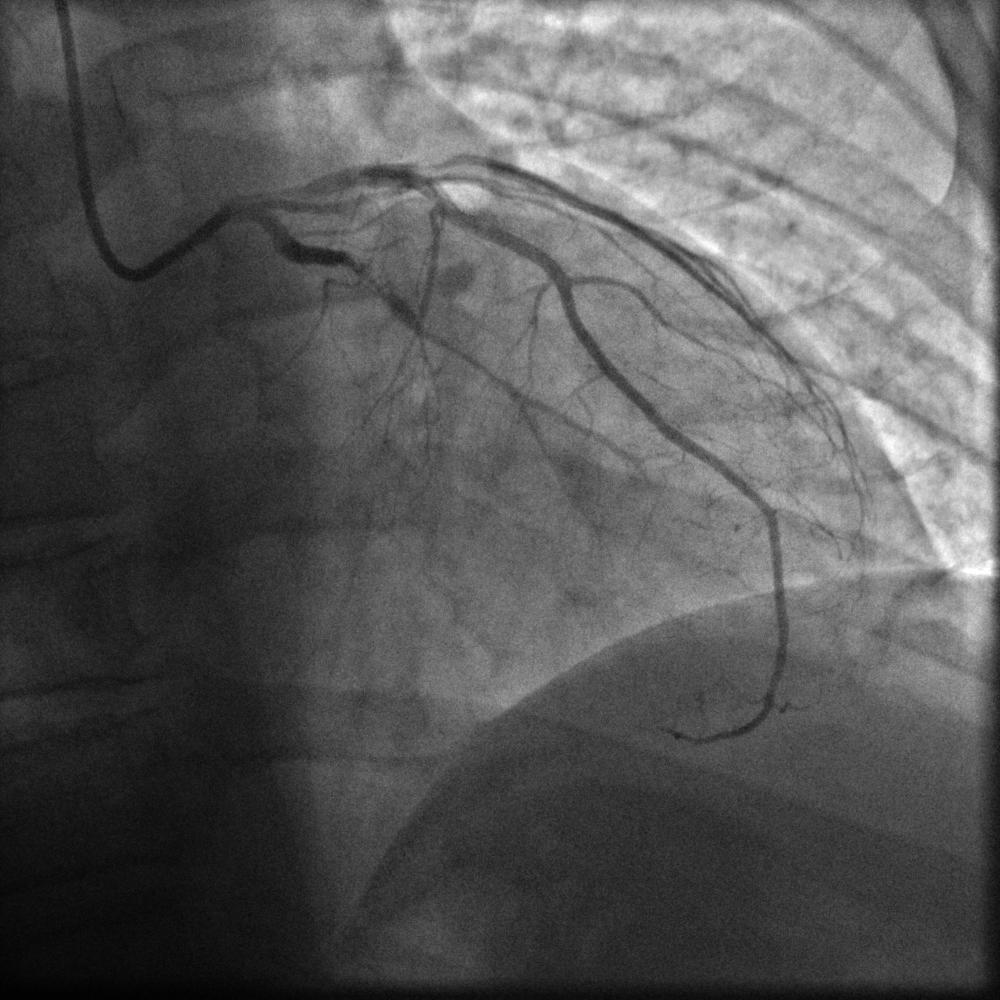Stenosis: (344, 251, 399, 311)
